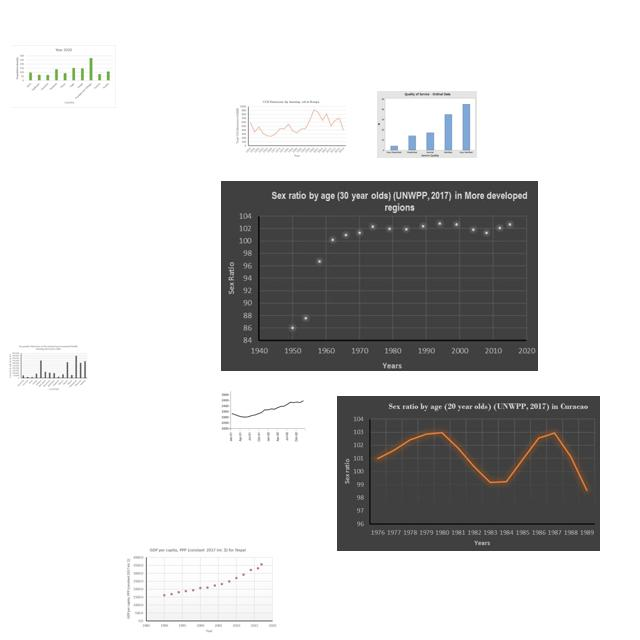Graph: (221, 181, 538, 371), (337, 396, 600, 551), (124, 545, 280, 637), (235, 97, 348, 159), (377, 91, 477, 158), (12, 45, 116, 108), (221, 388, 307, 443), (7, 344, 89, 393)
